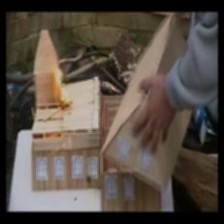fire: (46, 66, 71, 107)
